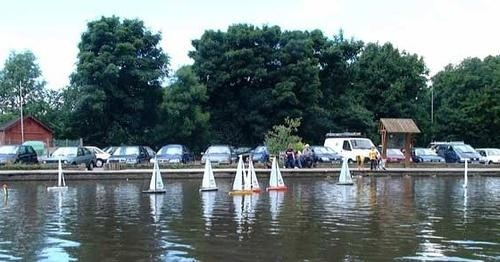boat: (231, 154, 252, 202), (146, 156, 171, 193), (48, 158, 72, 196), (267, 154, 289, 193), (199, 154, 220, 193), (245, 158, 265, 195), (337, 155, 355, 189)
car: (324, 131, 382, 170), (429, 139, 484, 168), (44, 141, 93, 172), (150, 140, 194, 169), (110, 141, 146, 175), (200, 140, 235, 170), (2, 144, 40, 169), (301, 140, 338, 165), (412, 146, 444, 168), (383, 144, 409, 167), (479, 146, 500, 169)
